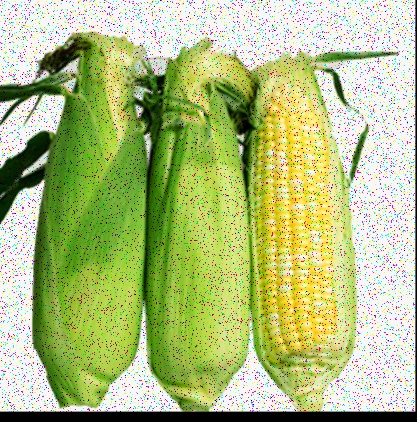corn: (248, 44, 356, 404)
corn_plant: (8, 22, 147, 409), (152, 43, 244, 402)
